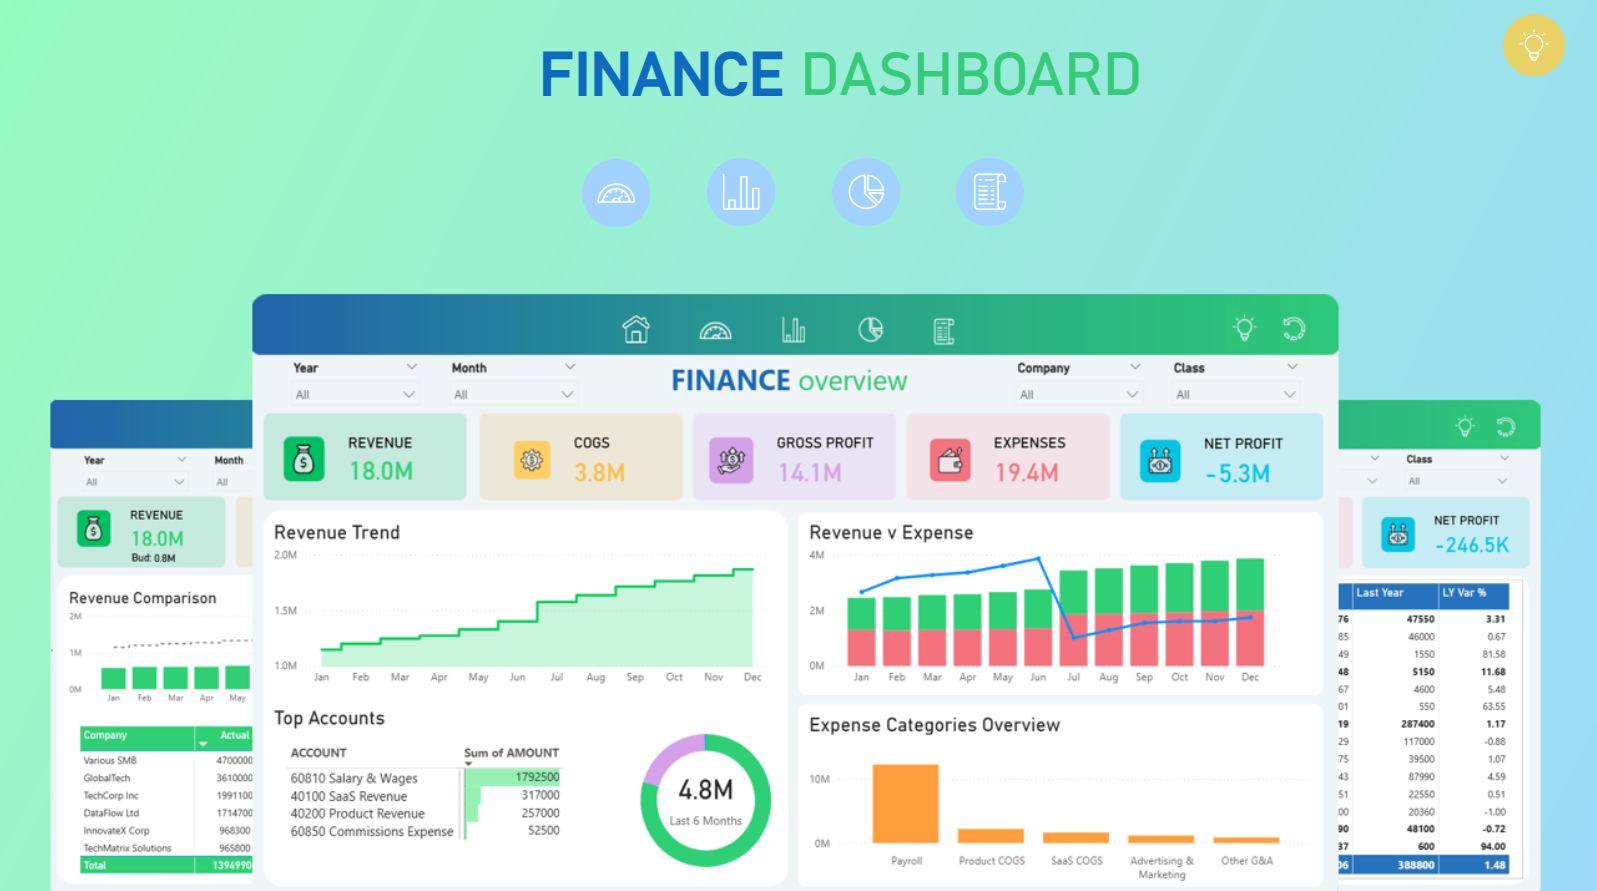

What the dashboard file says about the page in this screenshot:
{"tool":"powerbi","page":{"name":"Finance Overview","canvas":[1280,720],"ordinal":0},"visuals":[{"type":"slicer","fields":{"Values":["TRANSACTION.DATE.Variation.Date Hierarchy.Year1"]},"box":[54.5,85.8,167.5,62.6],"z":0},{"type":"slicer","fields":{"Values":["TRANSACTION.DATE.Variation.Date Hierarchy.Month1"]},"box":[235.6,85.8,167.5,62.6],"z":1000},{"type":"slicer","fields":{"Values":["TRANSACTION.NAME"]},"box":[881.9,85.7,166.5,62.7],"z":2000},{"type":"slicer","fields":{"Values":["TRANSACTION.Short_CLASS"]},"box":[1060.5,85.7,167.7,62.7],"z":3000},{"type":"cardVisual","fields":{"Data":["TRANSACTION.Revenue"]},"box":[31.4,148.4,232.8,100.1],"z":4000},{"type":"cardVisual","fields":{"Data":["TRANSACTION.COGS"]},"box":[294.4,148.4,216,100.1],"z":5000},{"type":"cardVisual","fields":{"Data":["TRANSACTION.Gross_Profit"]},"box":[517.6,148.4,244.9,100.1],"z":6000},{"type":"cardVisual","fields":{"Data":["TRANSACTION.Expenses"]},"box":[769.7,148.4,230.4,100.1],"z":7000},{"type":"cardVisual","fields":{"Data":["TRANSACTION.Net_Profit"]},"box":[1009.8,149.6,230.4,100.1],"z":8000},{"type":"areaChart","title":"Revenue Trend","fields":{"Category":["TRANSACTION.Month Name"],"Y":["TRANSACTION.Revenue"]},"box":[39.8,271.4,575.5,193],"z":9000},{"type":"donutChart","title":"Top Revenue Accounts","fields":{"Category":["TRANSACTION.ACCOUNT"],"Y":["TRANSACTION.Revenue"]},"box":[388.5,487.4,225.6,196.6],"z":10000},{"type":"cardVisual","fields":{"Data":["TRANSACTION.Revenue_Last6M"]},"box":[428.3,526,143.6,119.4],"z":11000},{"type":"pivotTable","fields":{"Rows":["TRANSACTION.ACCOUNT"],"Values":["Sum(TRANSACTION.AMOUNT)"]},"box":[54.3,517.6,360.7,156.8],"z":12000},{"type":"textbox","box":[39.8,475.3,237.7,42.2],"z":13000},{"type":"lineStackedColumnComboChart","title":"Revenue v Expense","fields":{"Category":["TRANSACTION.Month Name"],"Y":["Sum(TRANSACTION.AMOUNT)"],"Series":["TRANSACTION.REVENUE/EXPENSES"],"Y2":["TRANSACTION.Net_Profit"]},"box":[651.5,271.4,588.7,193],"z":14000},{"type":"textbox","box":[493.4,85.7,300.4,54.3],"z":15000},{"type":"clusteredColumnChart","title":"Expense Categories Overview","fields":{"Y":["TRANSACTION.Expenses"],"Category":["ACCOUNTS.LEVEL_02"]},"box":[651,487,589,197],"z":16000},{"type":"actionButton","box":[488.6,29,43.4,53.1],"z":17000},{"type":"actionButton","box":[565.5,36.2,32.6,37.4],"z":18000},{"type":"actionButton","box":[631.6,36.2,37.4,37.4],"z":19000},{"type":"actionButton","box":[702.5,36.2,33.8,37.4],"z":20000},{"type":"actionButton","box":[769.7,36.2,35,37.4],"z":21000}]}

Visuals, with their boxes in screenshot pixels (x1, y1, x2, y2), scaled from the page's 1280x720 canvas onto the 1597x891 screenshot:
slicer - TRANSACTION.DATE.Variation.Date Hierarchy.Year1: bbox=[68, 106, 277, 184]
slicer - TRANSACTION.DATE.Variation.Date Hierarchy.Month1: bbox=[294, 106, 503, 184]
slicer - TRANSACTION.NAME: bbox=[1100, 106, 1308, 184]
slicer - TRANSACTION.Short_CLASS: bbox=[1323, 106, 1532, 184]
cardVisual - TRANSACTION.Revenue: bbox=[39, 184, 330, 308]
cardVisual - TRANSACTION.COGS: bbox=[367, 184, 637, 308]
cardVisual - TRANSACTION.Gross_Profit: bbox=[646, 184, 951, 308]
cardVisual - TRANSACTION.Expenses: bbox=[960, 184, 1248, 308]
cardVisual - TRANSACTION.Net_Profit: bbox=[1260, 185, 1547, 309]
"Revenue Trend" areaChart: bbox=[50, 336, 768, 575]
"Top Revenue Accounts" donutChart: bbox=[485, 603, 766, 846]
cardVisual - TRANSACTION.Revenue_Last6M: bbox=[534, 651, 714, 799]
pivotTable - TRANSACTION.ACCOUNT x Sum(TRANSACTION.AMOUNT): bbox=[68, 641, 518, 835]
textbox: bbox=[50, 588, 346, 640]
"Revenue v Expense" lineStackedColumnComboChart: bbox=[813, 336, 1547, 575]
textbox: bbox=[616, 106, 990, 173]
"Expense Categories Overview" clusteredColumnChart: bbox=[812, 603, 1547, 846]
actionButton: bbox=[610, 36, 664, 102]
actionButton: bbox=[706, 45, 746, 91]
actionButton: bbox=[788, 45, 835, 91]
actionButton: bbox=[876, 45, 919, 91]
actionButton: bbox=[960, 45, 1004, 91]
